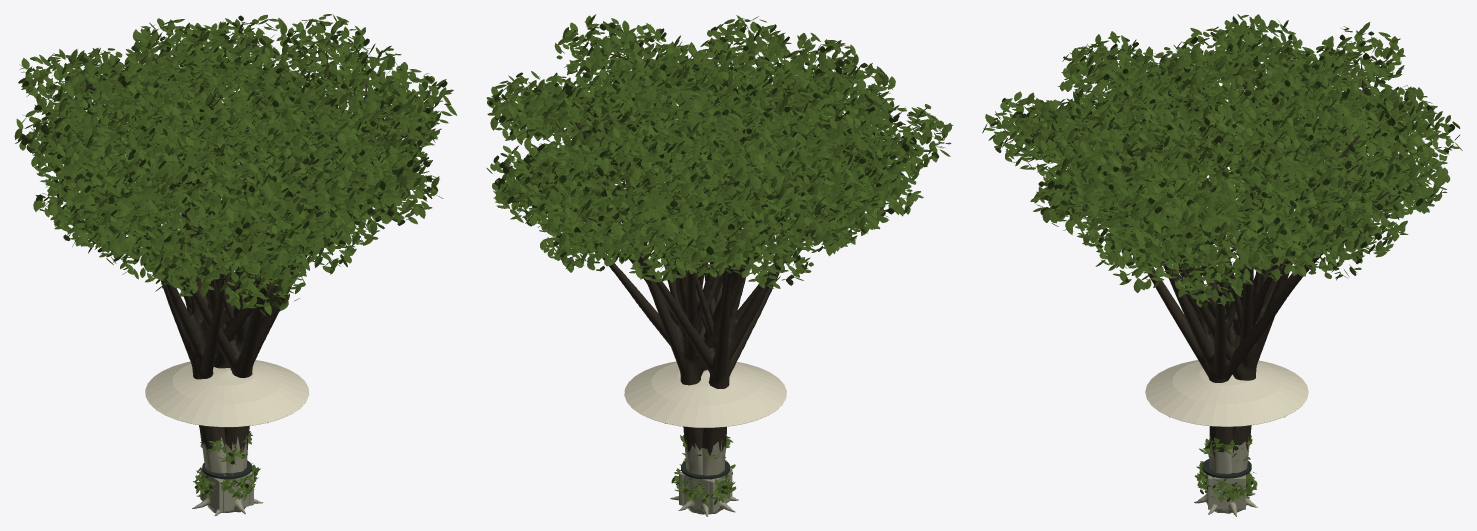
File: ustc1958_shared_library.glb
3 views of the same model, side by side, from view 1: azimuth 30°, elevation 25°; view 2: azimuth 150°, elevation 25°; view 3: azimuth 270°, elevation 25° (orthographic).
Visible parts, largest first — view 1: UmbrellaFabric, ContinuousTreeScaffold.001, ContinuousTreeScaffold, CrownClump_0_4_2, CrownClump_0_5_2, CrownClump_2_3_2, CrownClump_2_4_2, CrownClump_2_2_2, CrownClump_2_top_0, CrownClump_2_1_2, CrownClump_2_top_2, CrownClump_1_4_1 (+47 smaller); view 2: UmbrellaFabric, ContinuousTreeScaffold.001, ContinuousTreeScaffold.002, CrownClump_2_6_2, CrownClump_2_1_2, CrownClump_2_0_2, CrownClump_2_top_2, CrownClump_2_3_2, CrownClump_0_1_2, CrownClump_0_3_2, CrownClump_2_5_2, CrownClump_1_1_2 (+46 smaller); view 3: UmbrellaFabric, ContinuousTreeScaffold, ContinuousTreeScaffold.002, CrownClump_2_5_2, CrownClump_2_0_2, CrownClump_2_6_2, CrownClump_0_1_2, CrownClump_2_top_0, CrownClump_2_4_2, CrownClump_2_top_2, CrownClump_2_1_2, CrownClump_0_0_2 (+48 smaller).
Boxes of the visible parts, x1,y1,x2,y2 form: UmbrellaFabric: (145, 360, 309, 427); ContinuousTreeScaffold.001: (159, 177, 316, 513); ContinuousTreeScaffold: (101, 80, 349, 515); CrownClump_0_4_2: (91, 181, 180, 253); CrownClump_0_5_2: (270, 176, 362, 247); CrownClump_2_3_2: (156, 147, 247, 217); CrownClump_2_4_2: (295, 121, 382, 190); CrownClump_2_2_2: (55, 123, 140, 192); CrownClump_2_top_0: (205, 14, 303, 85); CrownClump_2_1_2: (18, 49, 105, 112); CrownClump_2_top_2: (100, 53, 190, 122); CrownClump_1_4_1: (140, 220, 228, 289); UmbrellaFabric: (624, 361, 786, 427); ContinuousTreeScaffold.001: (620, 161, 788, 514); ContinuousTreeScaffold.002: (577, 114, 830, 514); CrownClump_2_6_2: (491, 71, 582, 140); CrownClump_2_1_2: (694, 148, 780, 216); CrownClump_2_0_2: (565, 127, 652, 197); CrownClump_2_top_2: (713, 77, 806, 150); CrownClump_2_3_2: (813, 59, 895, 128); CrownClump_0_1_2: (493, 157, 580, 226); CrownClump_0_3_2: (785, 137, 873, 205); CrownClump_2_5_2: (554, 14, 641, 83); CrownClump_1_1_2: (581, 189, 671, 256); UmbrellaFabric: (1145, 360, 1308, 426); ContinuousTreeScaffold: (1115, 133, 1345, 516); ContinuousTreeScaffold.002: (1108, 94, 1346, 512); CrownClump_2_5_2: (1106, 146, 1197, 219); CrownClump_2_0_2: (1332, 86, 1418, 155); CrownClump_2_6_2: (1260, 144, 1345, 208); CrownClump_0_1_2: (1365, 144, 1450, 214); CrownClump_2_top_0: (1232, 74, 1330, 147); CrownClump_2_4_2: (1029, 97, 1120, 166); CrownClump_2_top_2: (1209, 14, 1304, 85); CrownClump_2_1_2: (1316, 22, 1405, 92); CrownClump_0_0_2: (1218, 173, 1309, 244).
Bounding box in the file's own units: 8.58 × 9.68 × 9.3.
11 materials, 6 textured.
